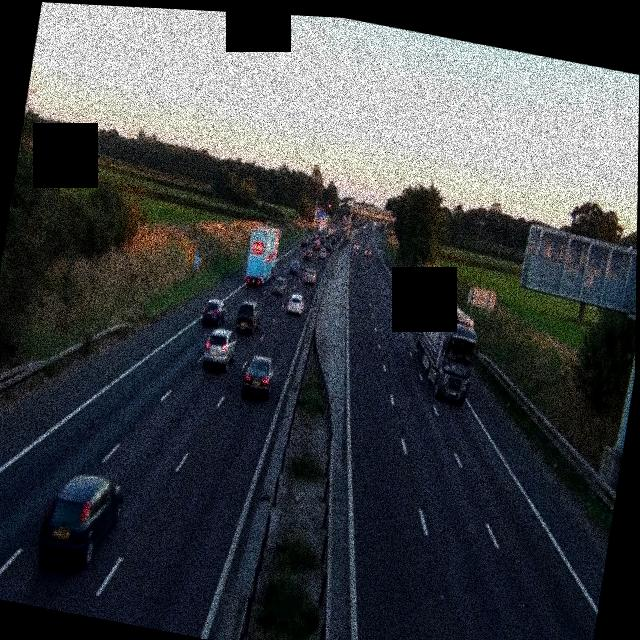bus: (406, 288, 484, 403)
car: (37, 466, 126, 575), (201, 325, 237, 373), (242, 353, 276, 400), (235, 298, 262, 337), (201, 298, 228, 330), (287, 290, 306, 317), (303, 267, 317, 287), (279, 259, 293, 278), (299, 252, 311, 268), (326, 238, 336, 253), (299, 237, 309, 251), (318, 247, 328, 260), (365, 247, 373, 258), (352, 242, 359, 253)
truck: (242, 222, 285, 288)
